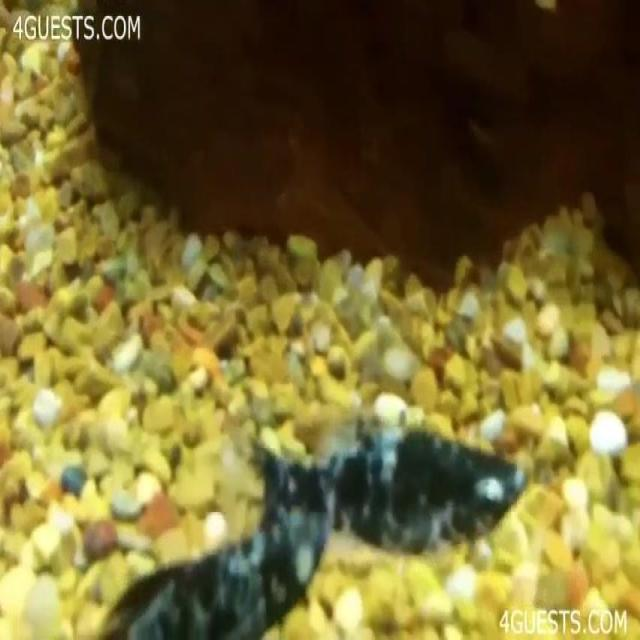PlatyFish: (242, 405, 544, 586)
